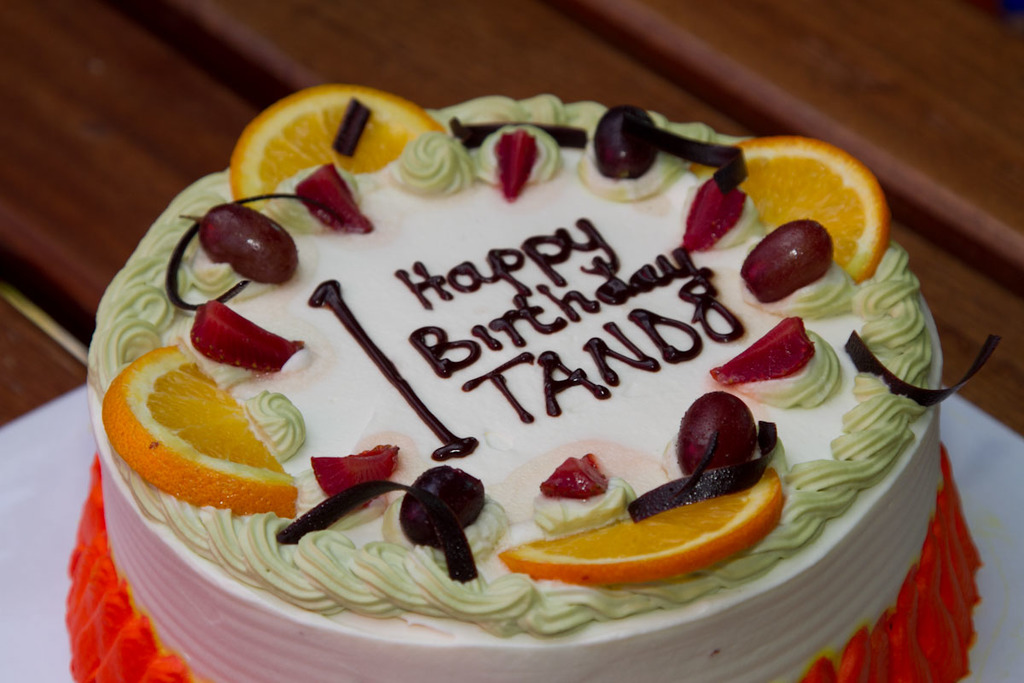cake: (85, 83, 1001, 682)
